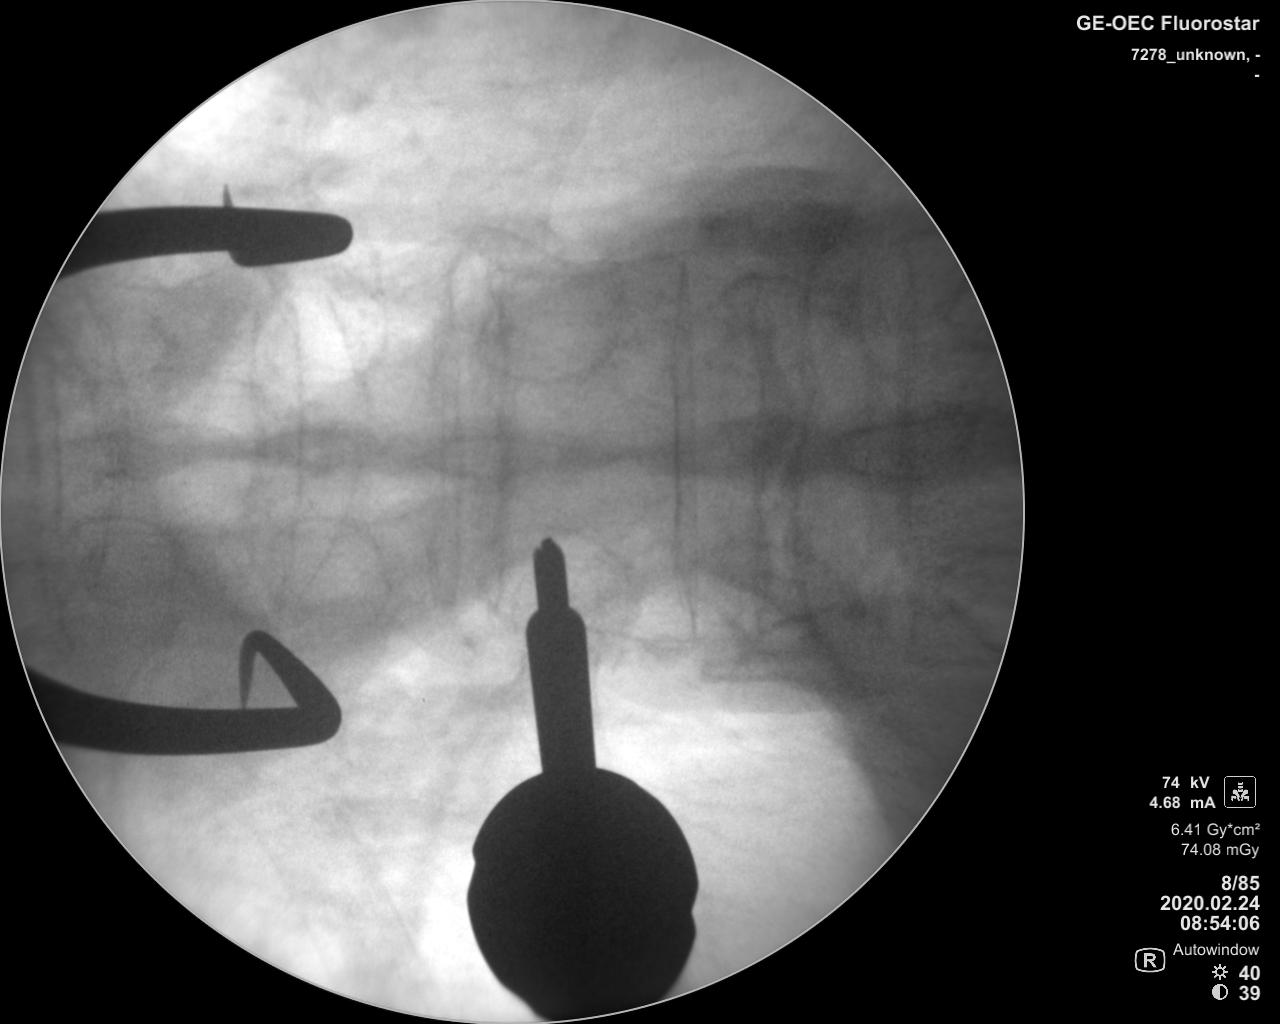eyes: (478, 269, 628, 385), (265, 280, 391, 388), (54, 513, 187, 613), (269, 514, 396, 611)
line: (236, 274, 302, 629), (664, 236, 713, 659), (430, 245, 470, 641), (478, 248, 514, 632)
nose: (624, 414, 796, 491), (415, 415, 594, 489), (821, 409, 978, 484), (225, 417, 391, 483), (51, 425, 197, 489)
